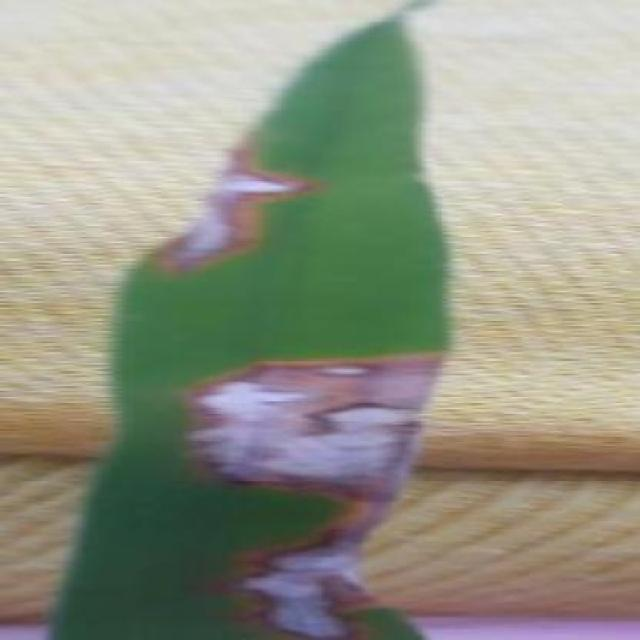Bacterial_Leaf_Blight: (162, 330, 452, 504), (122, 147, 330, 288), (227, 522, 396, 638)
